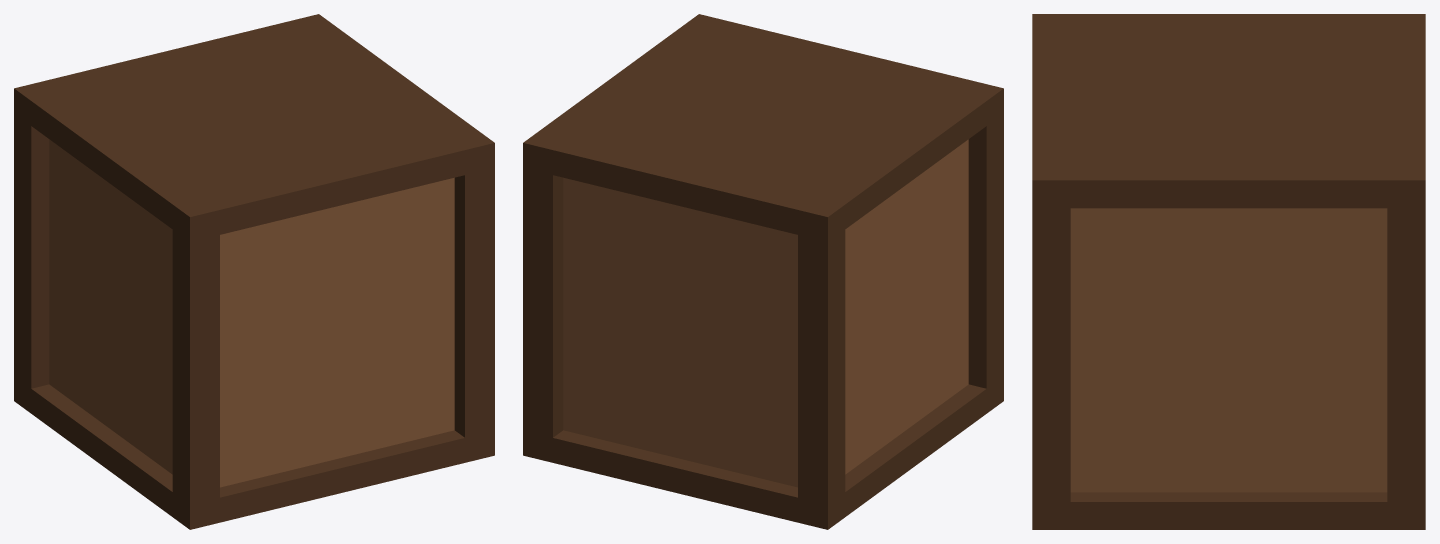
File: fo.wooden-crate.glb
3 renders of one model, left to right at view 1: azimuth 30°, elevation 25°; view 2: azimuth 150°, elevation 25°; view 3: azimuth 270°, elevation 25°, orthographic. The views are drawn at different scales.
Parts seen in each view (by area): view 1: Wooden Crate; view 2: Wooden Crate; view 3: Wooden Crate.
Boxes of the visible parts, box(x1,y1,x2,y2) form: Wooden Crate: box(14, 14, 494, 529); Wooden Crate: box(523, 14, 1003, 529); Wooden Crate: box(1032, 14, 1425, 529).
Bounding box in the file's own units: 1.02 × 1 × 1.02.
